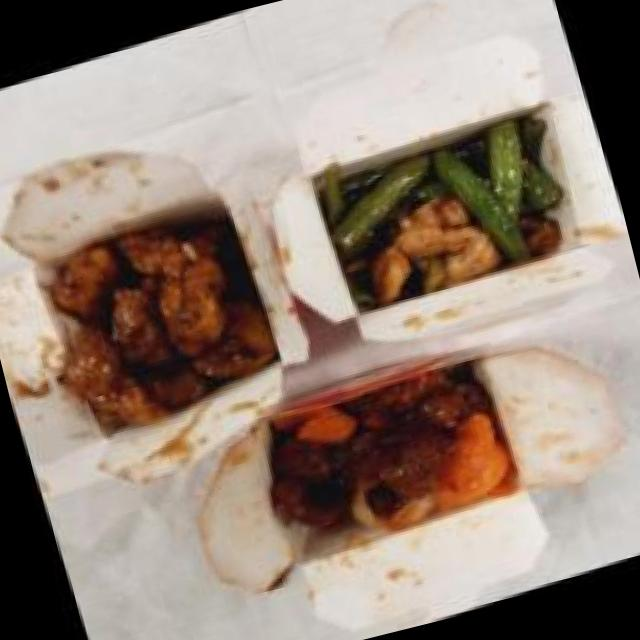Beijing Beef: (232, 336, 535, 574)
String Bean Chicken Breast: (291, 99, 588, 332)
The Original Orange Chicken: (14, 185, 296, 453)
